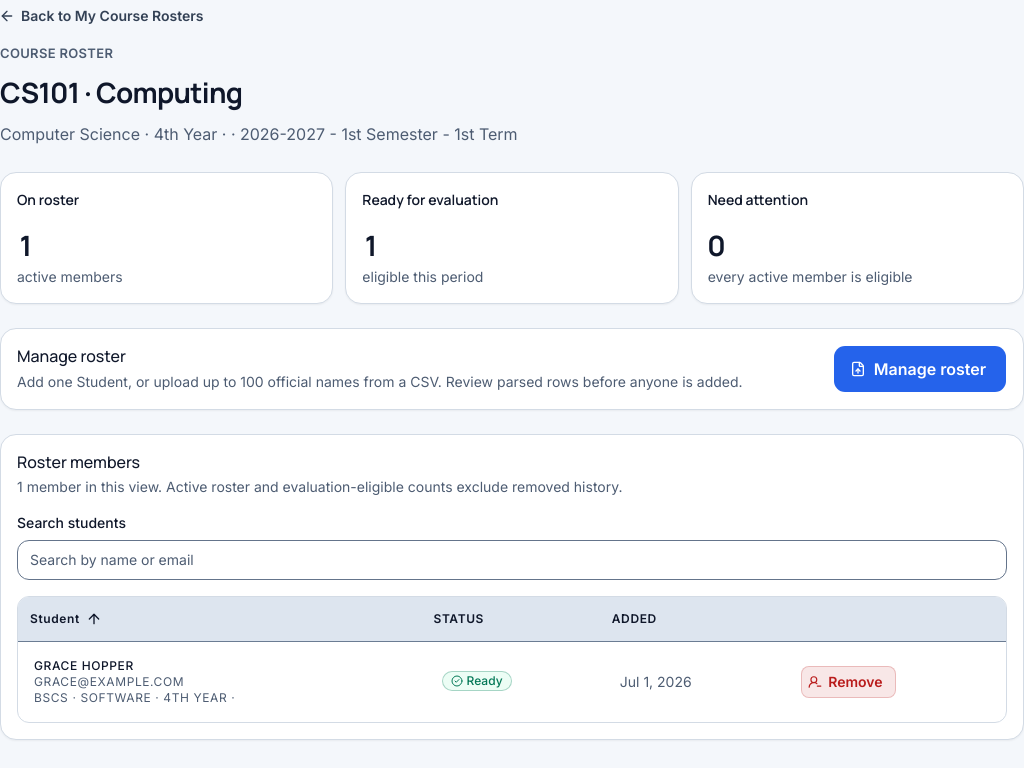
course roster pages › states limited removal effect in accessible confirmation
Click the button "Remove" at point(848, 682), box [801,666,896,698]
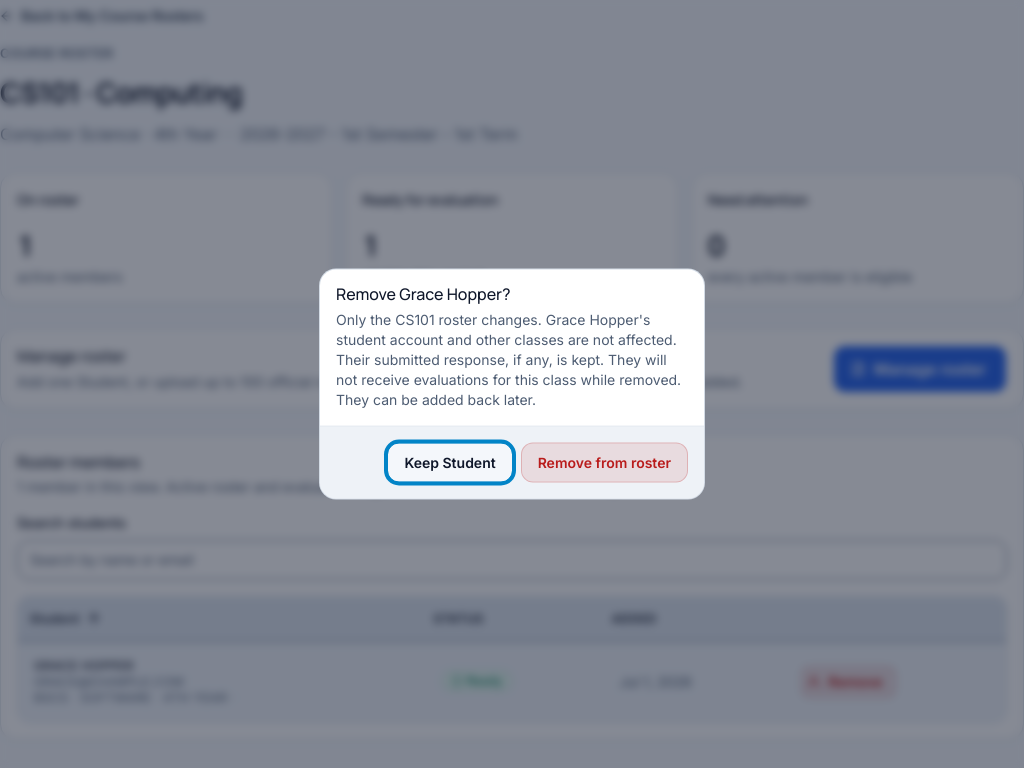
Now the dialog shows "Grace Hopper", box [399,282,502,304]
Now the dialog shows "Only the CS101 roster changes", box [320,270,704,498]
Now the dialog shows "student account and other classes are not affected", box [336,310,677,368]
